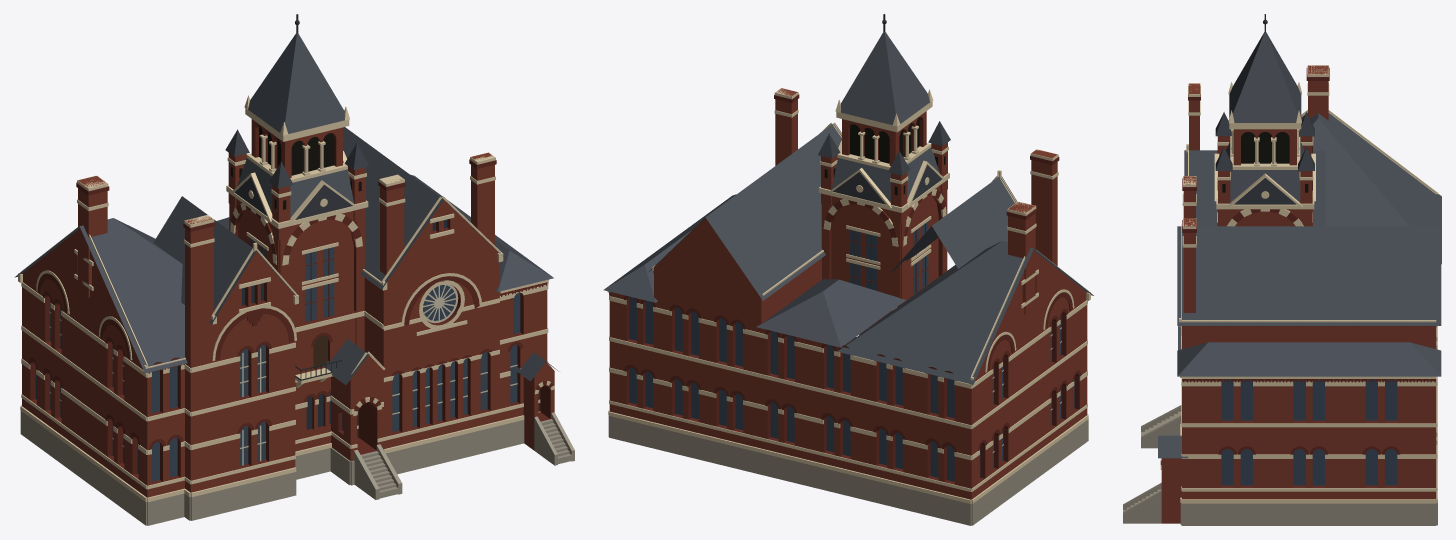
The model's file is ch-first-baptist-1913.glb.
3 renders of one model, left to right at view 1: azimuth 30°, elevation 25°; view 2: azimuth 150°, elevation 25°; view 3: azimuth 270°, elevation 25°, orthographic. The views are drawn at different scales.
Visible parts, largest first — view 1: ch_brick, ch_slate, ch_trim, ch_brick2, ch_base, ch_stain, ch_slate2, ch_shadow, ch_lead, ch_glass; view 2: ch_brick, ch_slate, ch_trim, ch_brick2, ch_stain, ch_base, ch_slate2, ch_shadow; view 3: ch_slate, ch_brick, ch_trim, ch_base, ch_stain, ch_brick2, ch_slate2, ch_shadow.
Boxes of the visible parts, left/top/right/bottom form: ch_brick: left=22, top=119, right=554, bottom=497; ch_slate: left=14, top=33, right=558, bottom=384; ch_trim: left=18, top=95, right=554, bottom=502; ch_brick2: left=28, top=124, right=553, bottom=484; ch_base: left=20, top=411, right=574, bottom=525; ch_stain: left=35, top=238, right=520, bottom=481; ch_slate2: left=225, top=129, right=368, bottom=219; ch_shadow: left=231, top=125, right=361, bottom=209; ch_lead: left=49, top=284, right=517, bottom=465; ch_glass: left=242, top=219, right=447, bottom=429; ch_brick: left=609, top=88, right=1087, bottom=499; ch_slate: left=603, top=32, right=1093, bottom=384; ch_trim: left=607, top=88, right=1090, bottom=503; ch_brick2: left=609, top=94, right=1081, bottom=484; ch_stain: left=629, top=221, right=1074, bottom=481; ch_base: left=608, top=415, right=1088, bottom=525; ch_slate2: left=818, top=121, right=950, bottom=204; ch_shadow: left=824, top=117, right=945, bottom=195; ch_slate: left=1158, top=32, right=1441, bottom=458; ch_brick: left=1161, top=65, right=1436, bottom=523; ch_trim: left=1160, top=65, right=1438, bottom=503; ch_base: left=1123, top=405, right=1437, bottom=525; ch_stain: left=1221, top=379, right=1397, bottom=485; ch_brick2: left=1160, top=67, right=1435, bottom=487; ch_slate2: left=1215, top=112, right=1314, bottom=204; ch_shadow: left=1217, top=132, right=1312, bottom=192.
Size of the model in its own units: 31.75 by 33.4 by 23.2.
